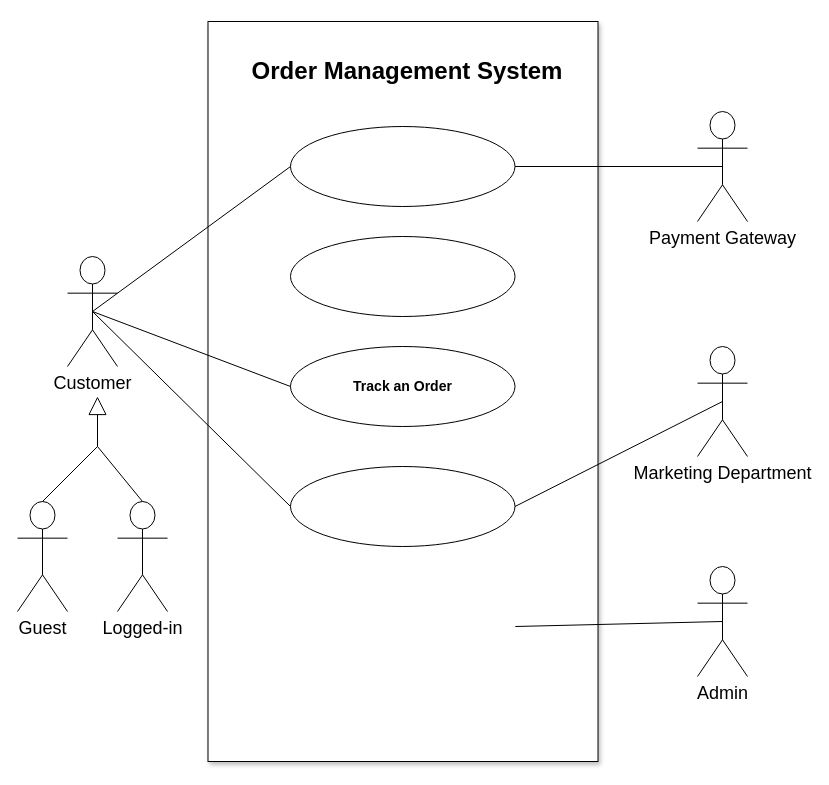
Image size: 829x785. Some labels were removed from this diagram. The shapes that lost their labels are listed below. From the top down, each one's centre as x and y in pixels, then its label:
pixel 402 166: Place an Order
pixel 402 276: Apply Discounts and Promotions
pixel 402 506: Initiate a Product Return or Refund
